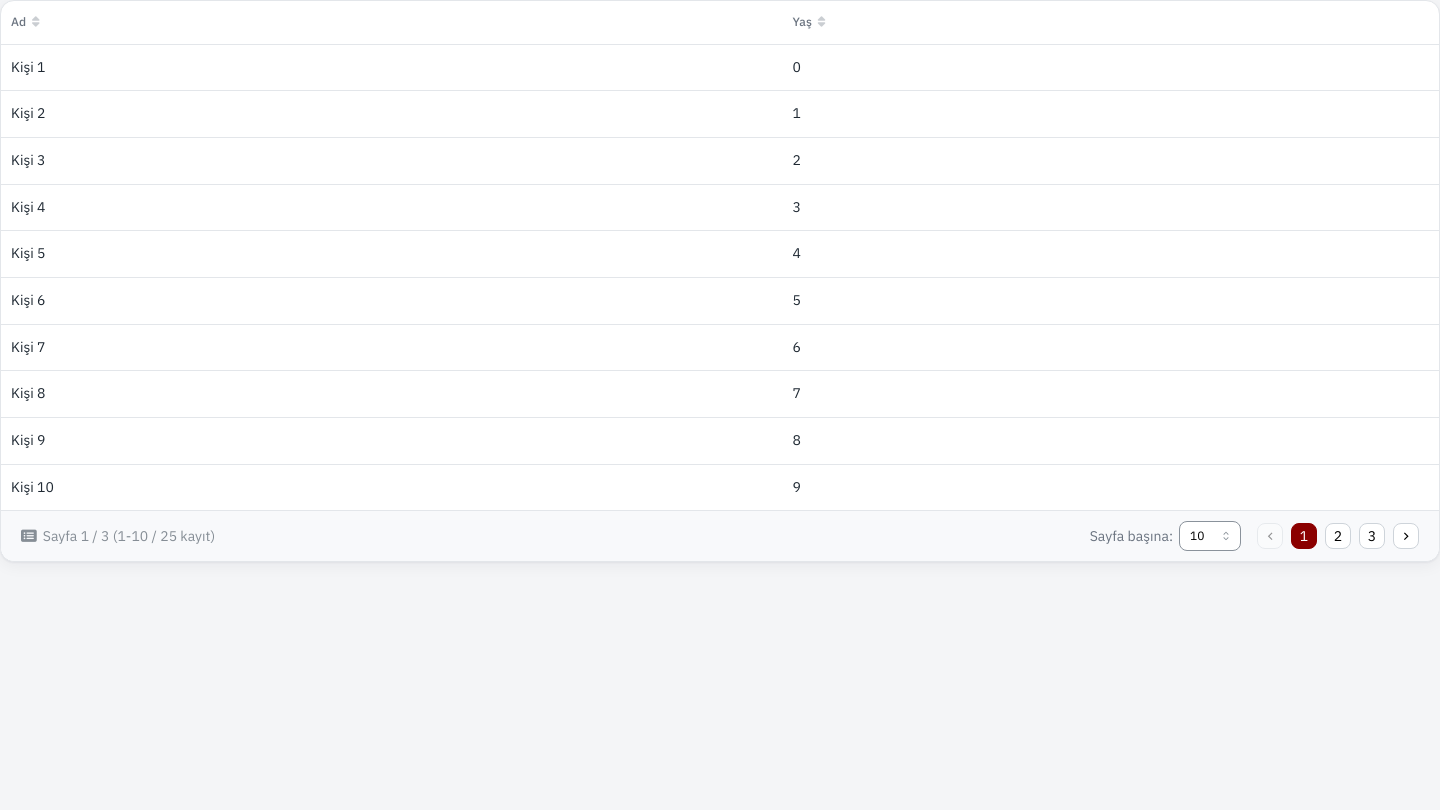
DataTable › slices client pages
Click the button "3": click(1372, 536) [1359, 524, 1385, 550]
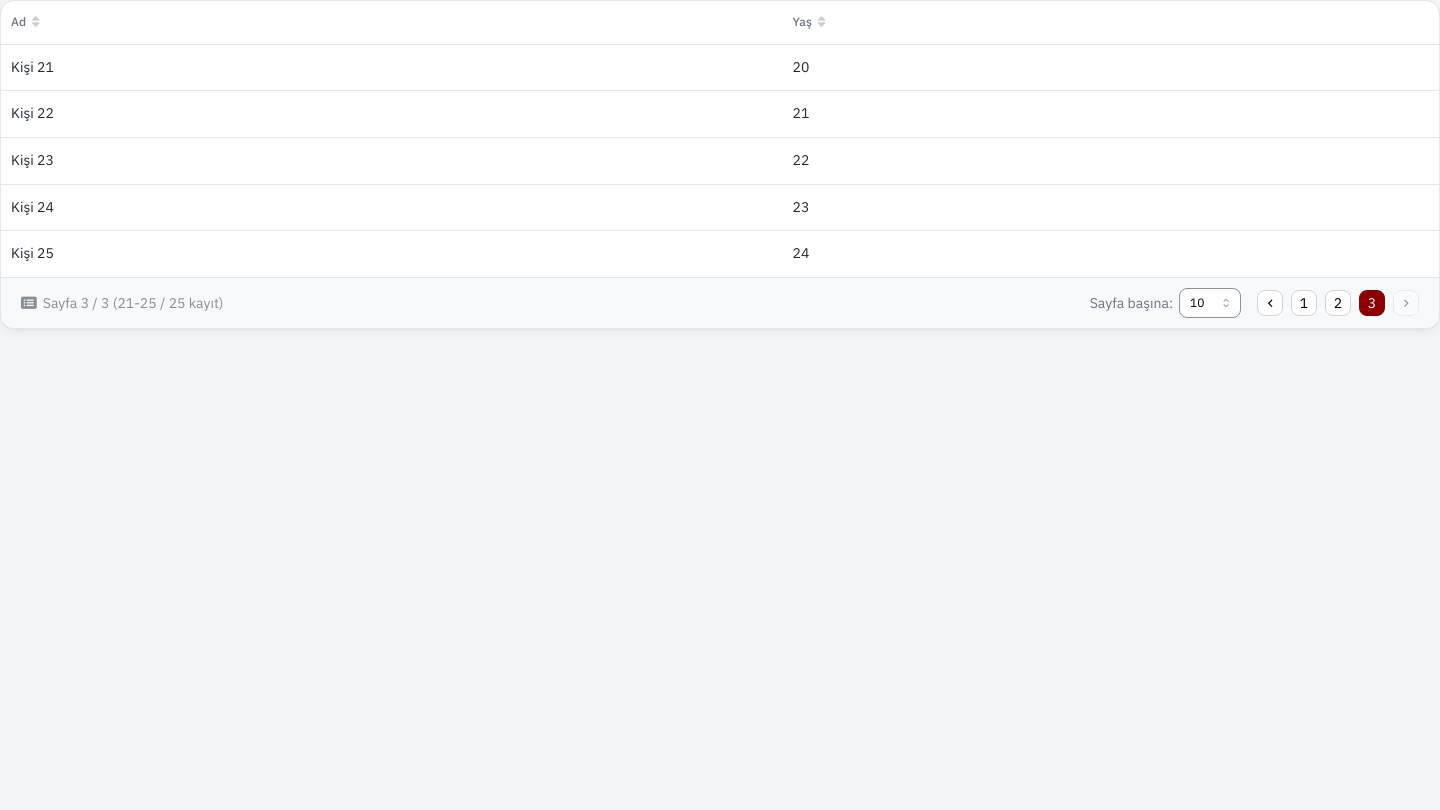
Result: the text "Kişi 21" is shown at [1, 44, 783, 91]
